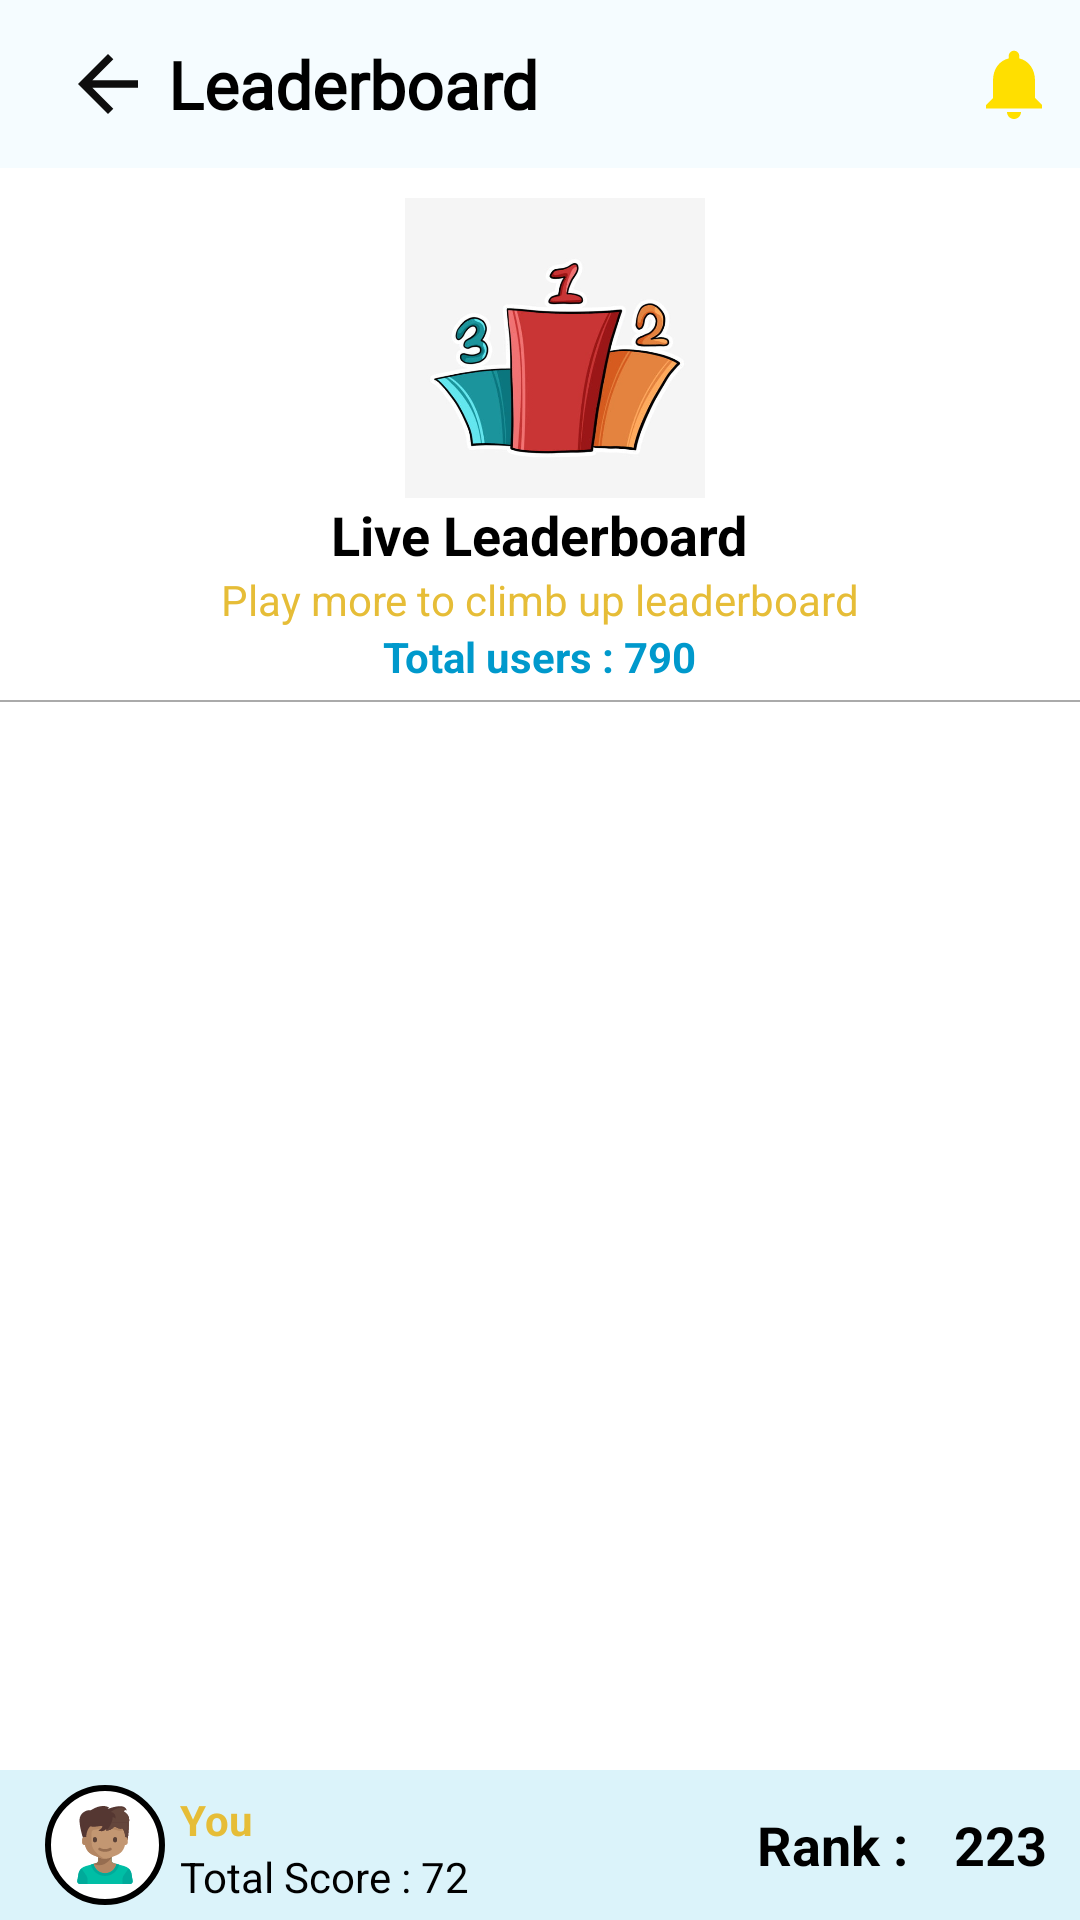

Point at icon controls on the screen. Image size 1080 x 1920, points as [x,y].
back: [108,84]
boy clipart: [105,1845]
notification: [1014,84]
